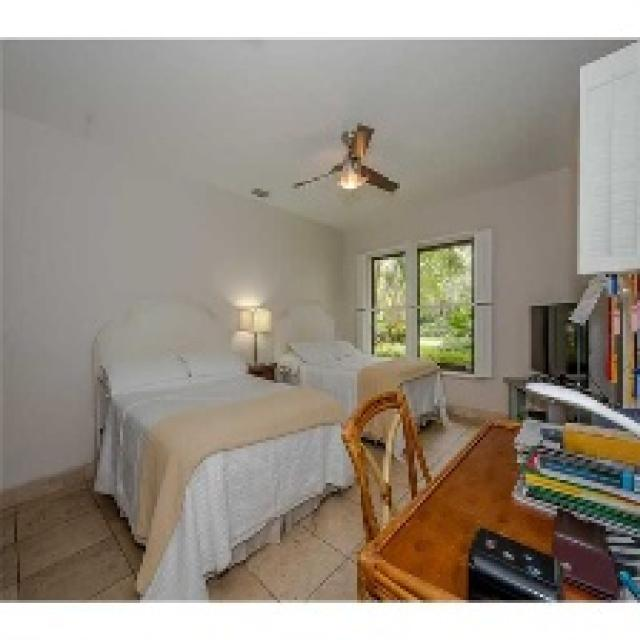Bed: (92, 297, 357, 597)
